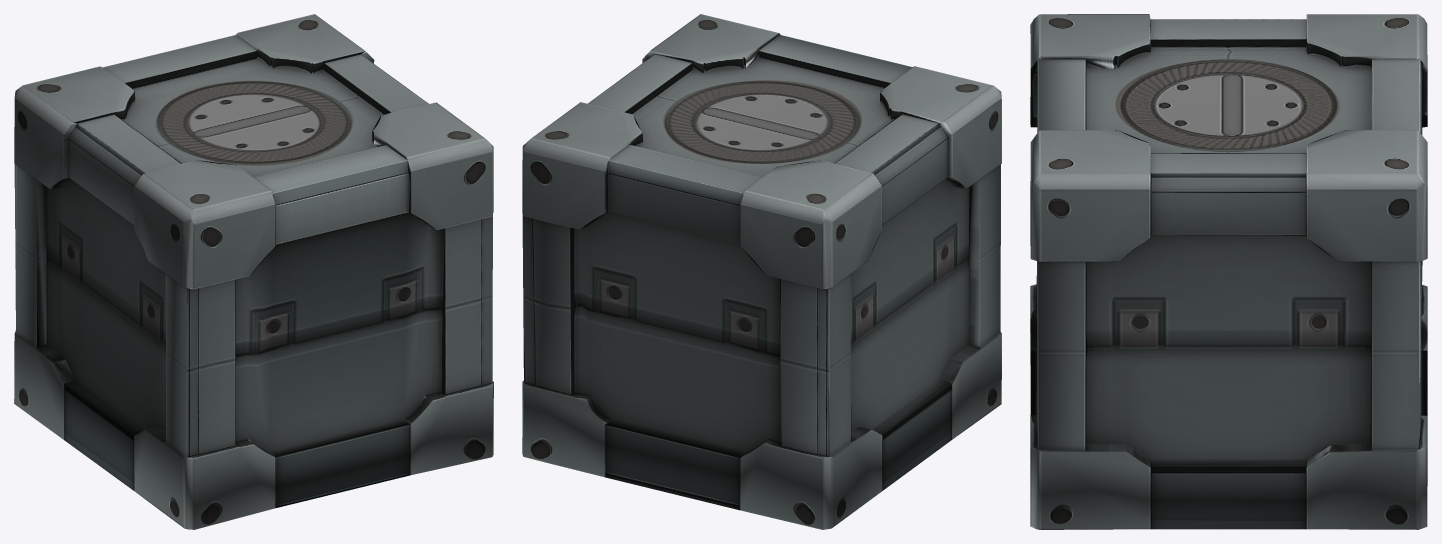
File: Crate.fbx
3 views of the same model, side by side, from view 1: azimuth 30°, elevation 25°; view 2: azimuth 150°, elevation 25°; view 3: azimuth 270°, elevation 25° (orthographic). The views are drawn at different scales.
Visible parts, largest first — view 1: Low_Crate:RetopoGroup1; view 2: Low_Crate:RetopoGroup1; view 3: Low_Crate:RetopoGroup1.
Boxes of the visible parts, x1,y1,x2,y2 form: Low_Crate:RetopoGroup1: (14, 14, 493, 529); Low_Crate:RetopoGroup1: (522, 14, 1001, 529); Low_Crate:RetopoGroup1: (1030, 14, 1427, 529).
Size of the model in its own units: 135 by 132 by 135.
